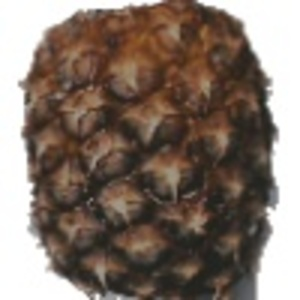abacaxi: (23, 1, 280, 299)
